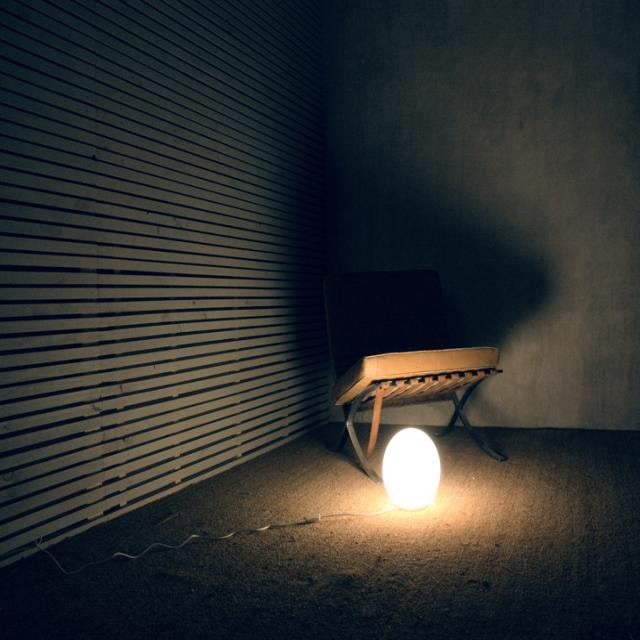chair: (306, 234, 515, 452)
